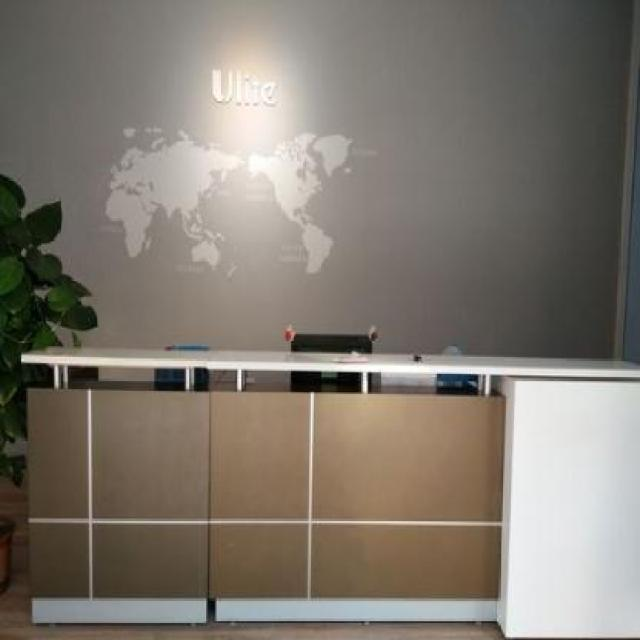frontdesk: (11, 324, 640, 640)
